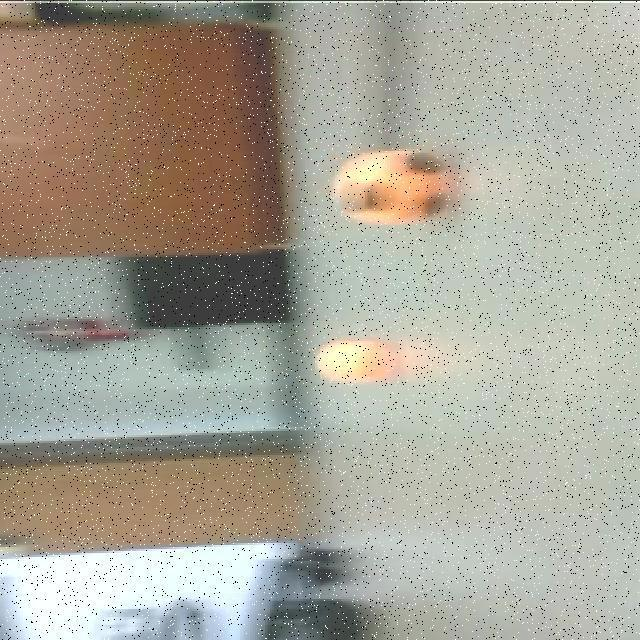ping-pong-ball: (328, 140, 454, 232), (309, 333, 396, 387)
